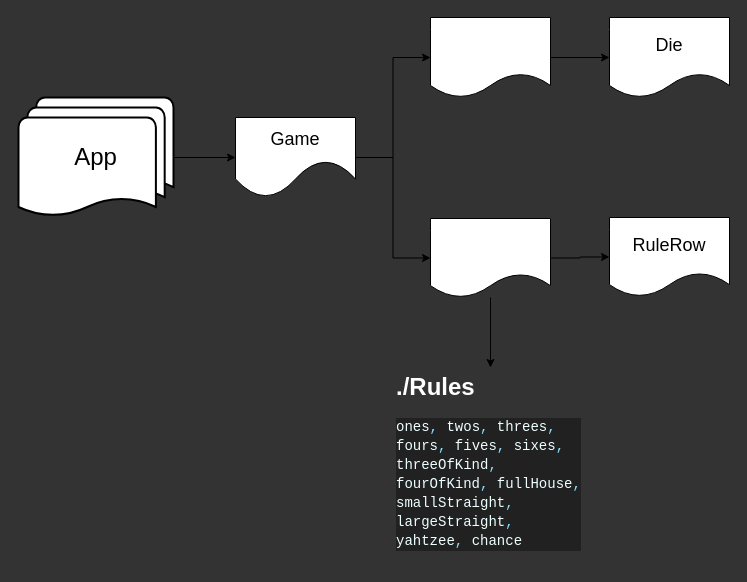
Image size: 747x582. Some labels were removed from this diagram. Here are the shapes that lost their labels. From the top down, the centre of each, then its label:
At point (490, 57): "Dice".
At point (490, 258): "ScoreTable".
